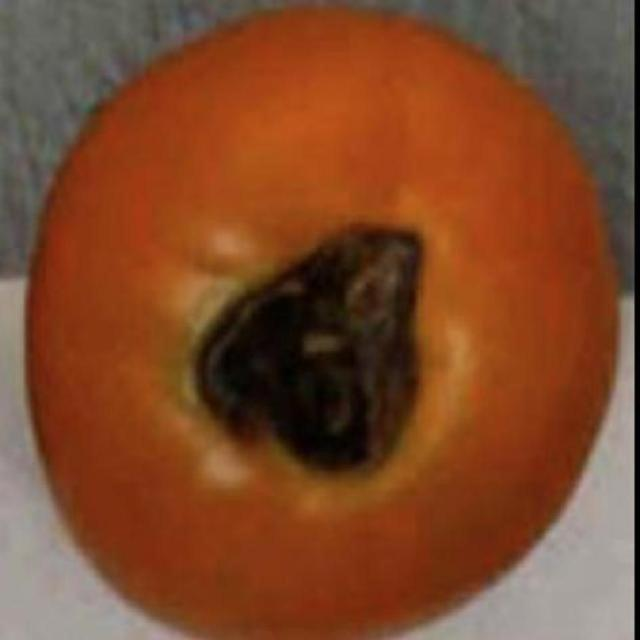Blossom End Rot Fruit: (112, 148, 301, 312)
